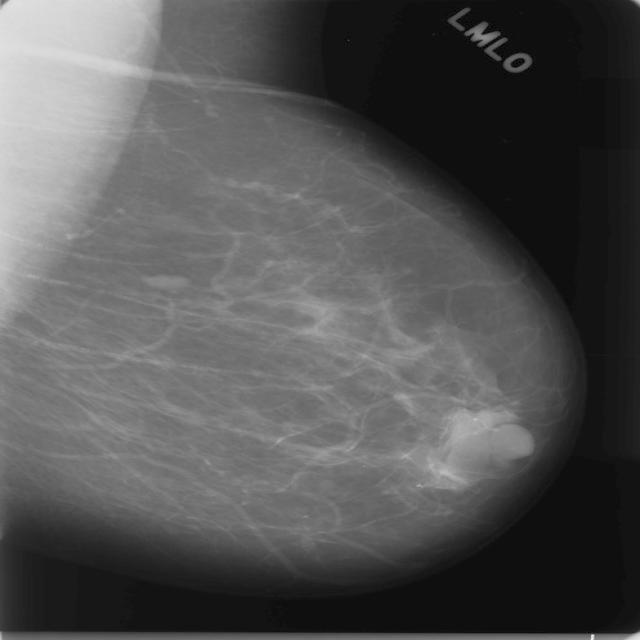tumour: (140, 273, 190, 292)
